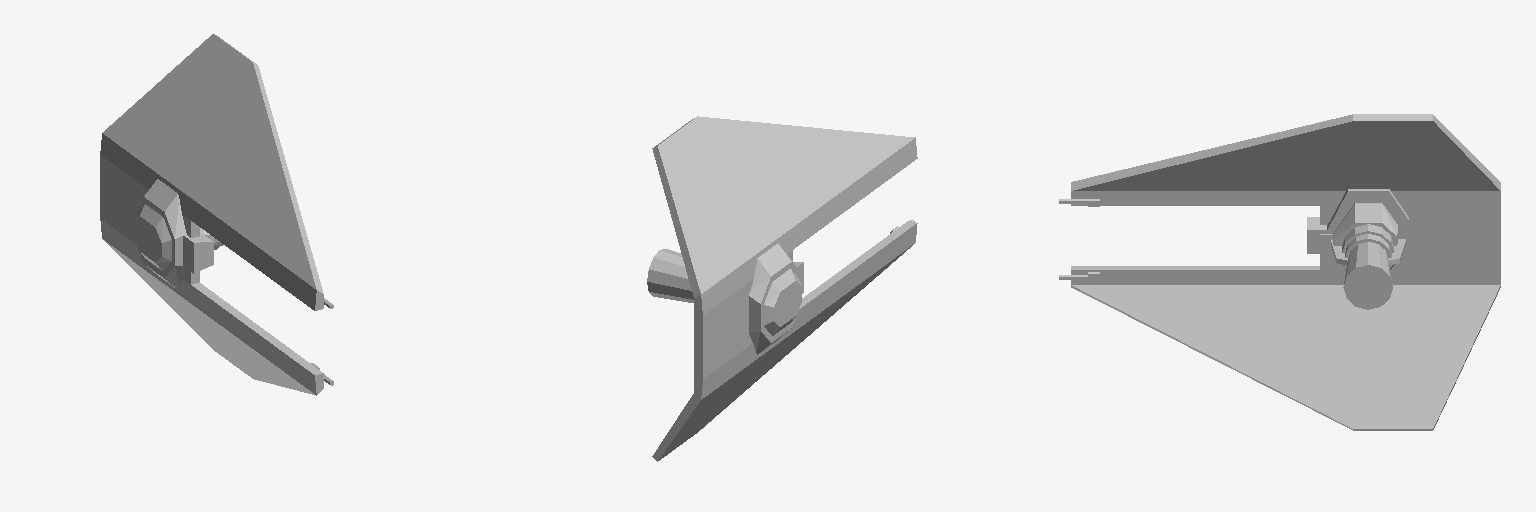
Rendered from tie-win-r.obj.
3 views of the same model, side by side, from view 1: azimuth 30°, elevation 25°; view 2: azimuth 150°, elevation 25°; view 3: azimuth 270°, elevation 25° (orthographic).
Parts seen in each view (by area): view 1: WingRight; view 2: WingRight; view 3: WingRight.
Boxes of the visible parts, x1,y1,x2,y2 form: WingRight: [100, 34, 333, 395]; WingRight: [647, 116, 917, 461]; WingRight: [1059, 114, 1500, 430].
Bounding box in the file's own units: 274 × 643 × 814.